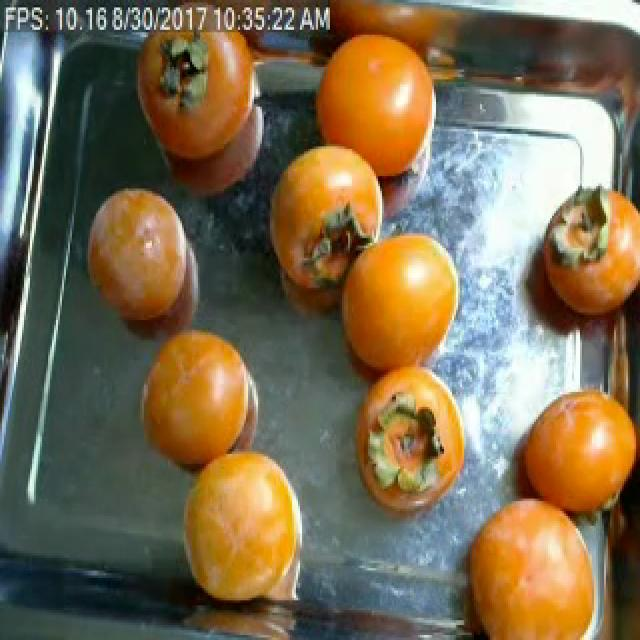Fruit: (318, 208, 478, 407), (76, 174, 228, 357), (164, 432, 304, 630), (502, 367, 640, 556), (298, 18, 440, 198), (448, 481, 596, 640), (128, 318, 268, 486), (248, 129, 370, 303)
